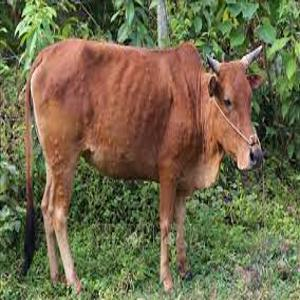lumpy skin diesease: (20, 36, 265, 295)
